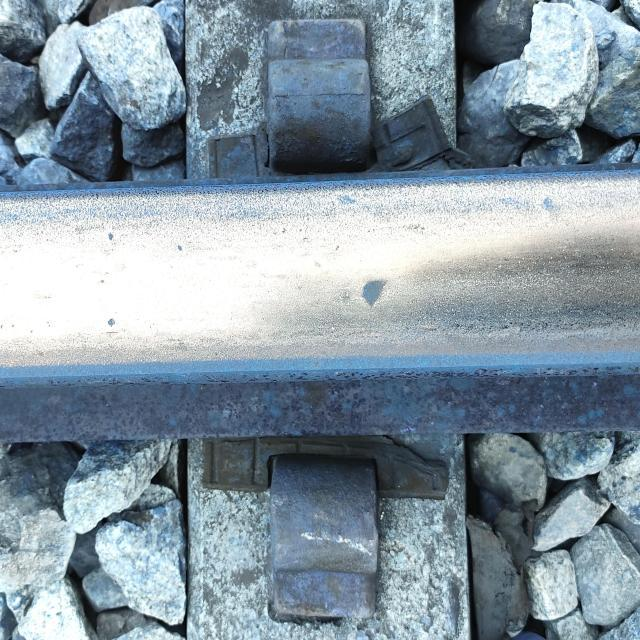Missing Fastener: (198, 0, 453, 179), (192, 444, 407, 635)
